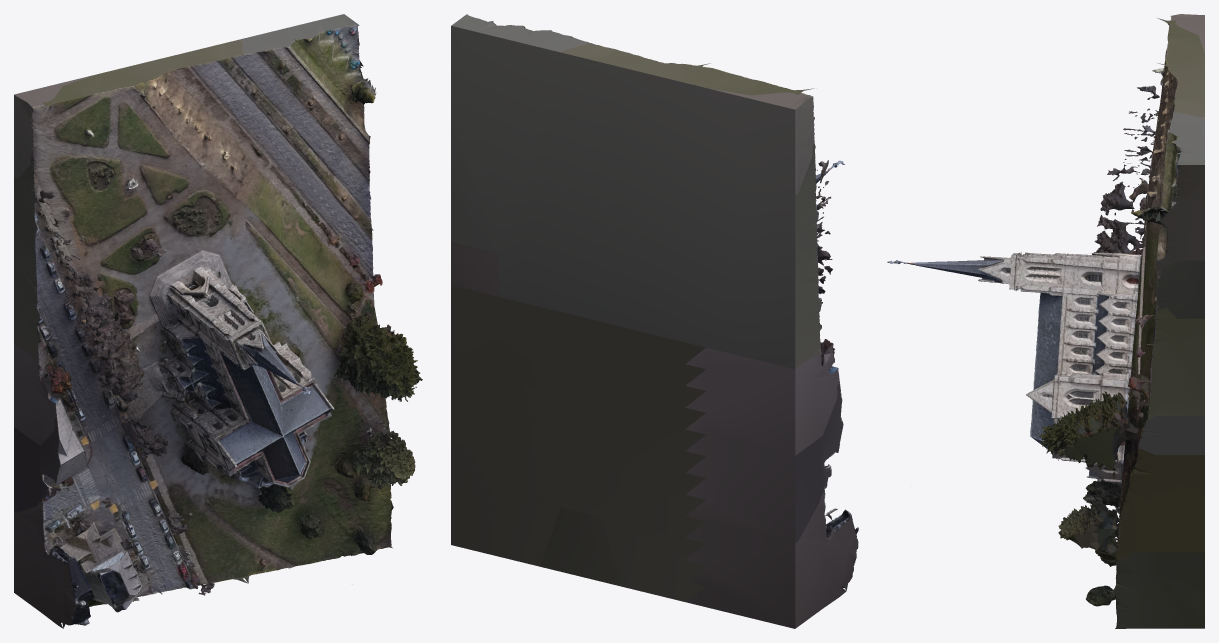
File: catedral.glb
3 renders of one model, left to right at view 1: azimuth 30°, elevation 25°; view 2: azimuth 150°, elevation 25°; view 3: azimuth 270°, elevation 25°, orthographic. The views are drawn at different scales.
Size of the model in its own units: 81.83 by 119 by 73.2.
Materials: 1 (1 with a texture image).
